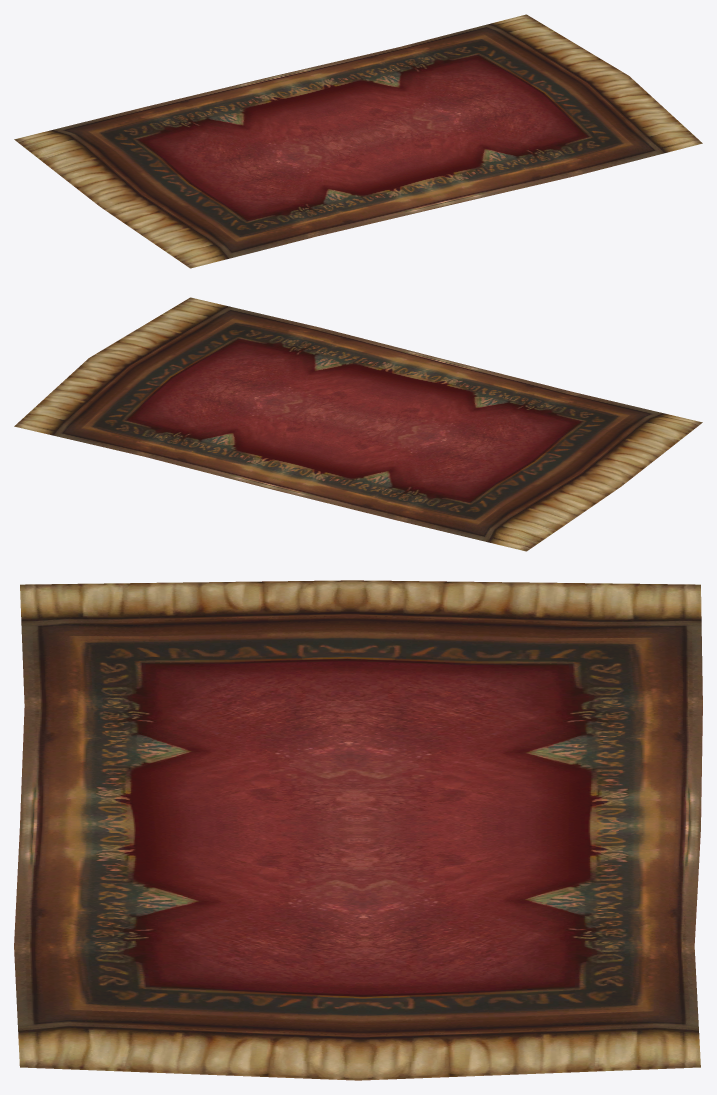
Rendered from stormwindrug02.obj.
The picture shows the model from 3 angles, top to bottom: view 1: azimuth 30°, elevation 25°; view 2: azimuth 150°, elevation 25°; view 3: azimuth 270°, elevation 25°; orthographic projection. The views are drawn at different scales.
Parts seen in each view (by area): view 1: stormwindrug02; view 2: stormwindrug02; view 3: stormwindrug02.
Boxes of the visible parts, bbox=[...] form: stormwindrug02: bbox=[14, 14, 702, 268]; stormwindrug02: bbox=[14, 297, 702, 551]; stormwindrug02: bbox=[14, 580, 702, 1080].
Size of the model in its own units: 3.1 by 0.0137 by 1.8.
1 material, 1 textured.
